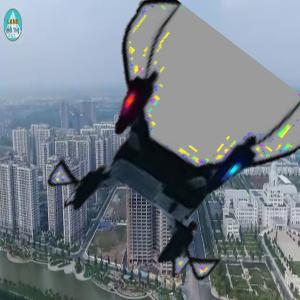drone: (57, 31, 297, 271)
